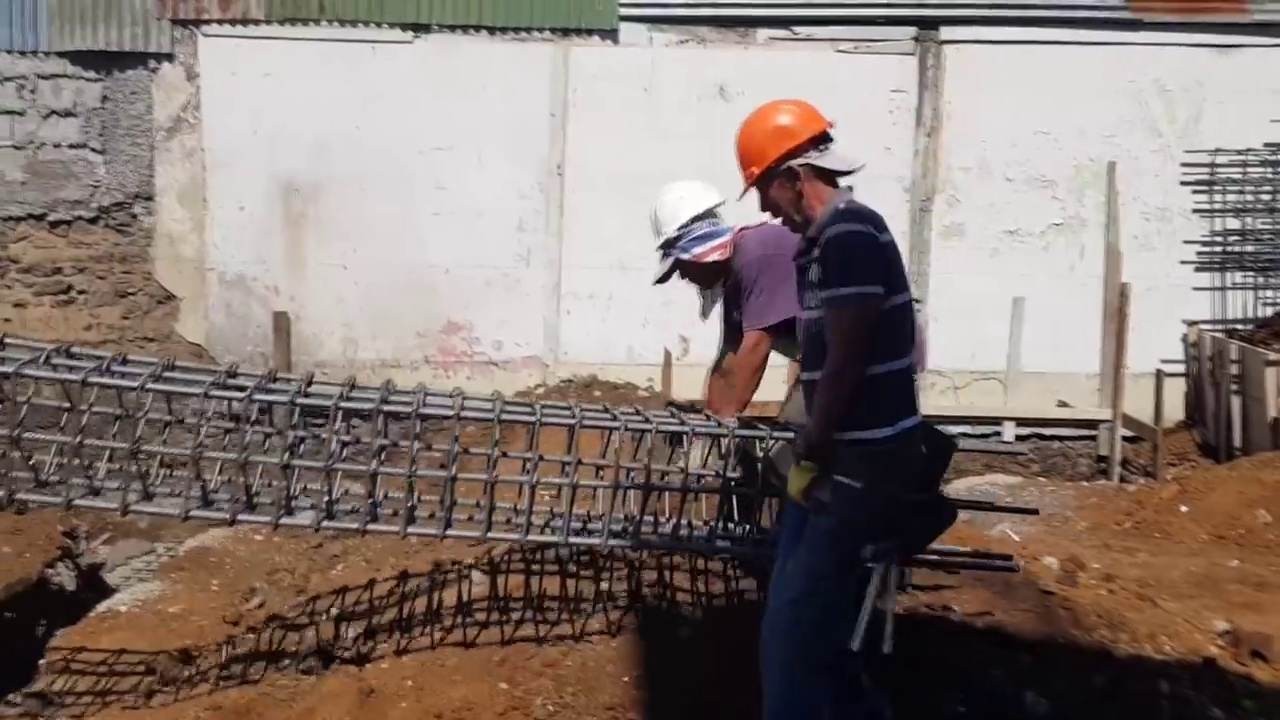helmet: (735, 103, 831, 201), (650, 182, 725, 252)
helmet-on: (735, 104, 855, 237), (650, 182, 741, 290)
person: (764, 110, 927, 684), (646, 180, 795, 425)
